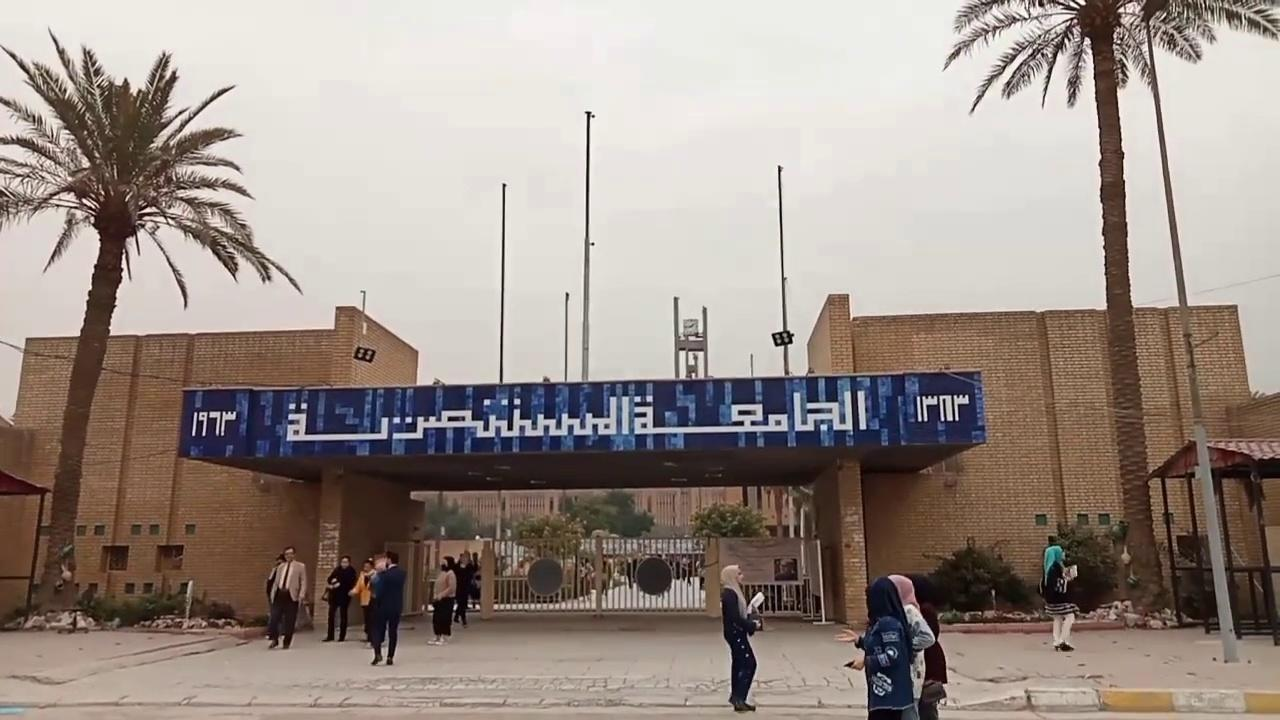car: (1163, 533, 1268, 621)
person: (833, 574, 935, 719), (719, 563, 764, 712), (903, 573, 947, 718), (1038, 535, 1079, 651), (368, 550, 406, 665), (266, 546, 307, 649), (320, 555, 356, 641), (426, 560, 456, 645), (348, 558, 377, 643), (451, 550, 475, 628), (264, 554, 284, 641)
tree: (941, 0, 1278, 616), (0, 24, 302, 609), (687, 500, 770, 617), (922, 534, 1028, 613), (566, 489, 655, 583), (1052, 519, 1129, 613), (511, 511, 585, 598), (687, 500, 770, 541)
